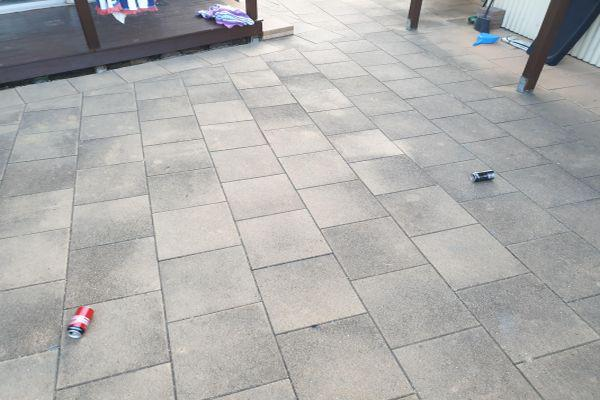Plastic Bottle: (66, 305, 95, 339), (469, 170, 495, 183)
